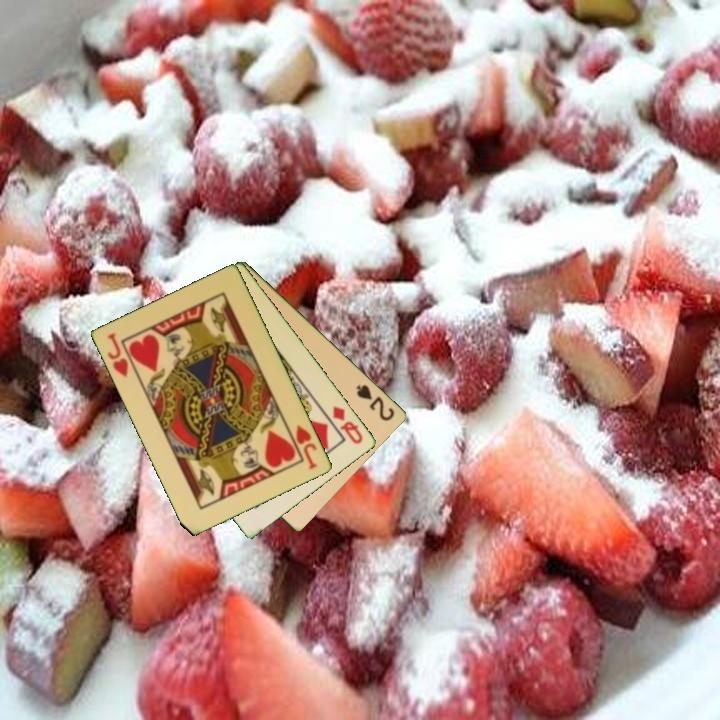2s: (353, 381, 398, 424)
Jh: (284, 422, 320, 472), (104, 329, 132, 380)
Qd: (329, 402, 366, 447)
